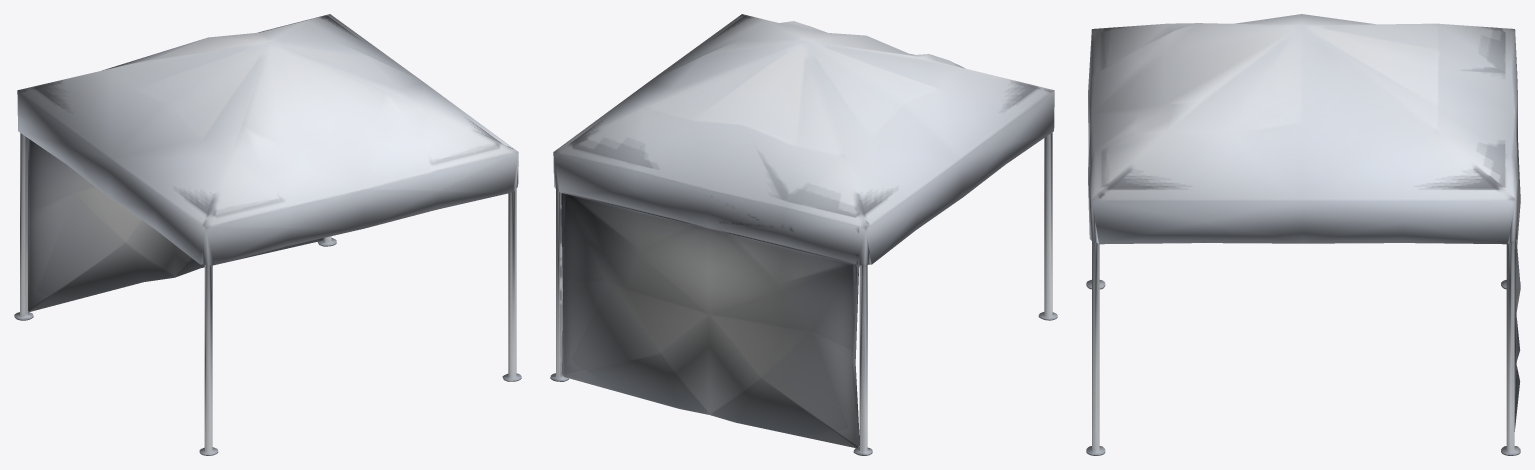
File: Tenda_Putih.fbx
3 views of the same model, side by side, from view 1: azimuth 30°, elevation 25°; view 2: azimuth 150°, elevation 25°; view 3: azimuth 270°, elevation 25° (orthographic). The views are drawn at different scales.
Parts seen in each view (by area): view 1: mesh_rep_0_ori_repair_quad; view 2: mesh_rep_0_ori_repair_quad; view 3: mesh_rep_0_ori_repair_quad.
Boxes of the visible parts, x1,y1,x2,y2 form: mesh_rep_0_ori_repair_quad: (14, 14, 521, 455); mesh_rep_0_ori_repair_quad: (550, 14, 1057, 455); mesh_rep_0_ori_repair_quad: (1086, 14, 1520, 455).
Size of the model in its own units: 425 by 389 by 446.
Materials: 1 (1 with a texture image).
